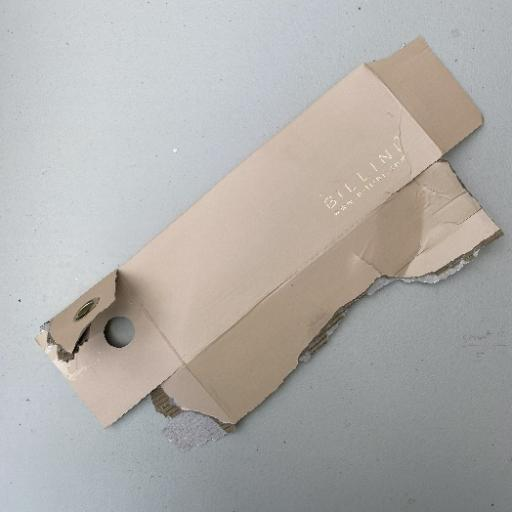Cardboard: (33, 34, 503, 433)
